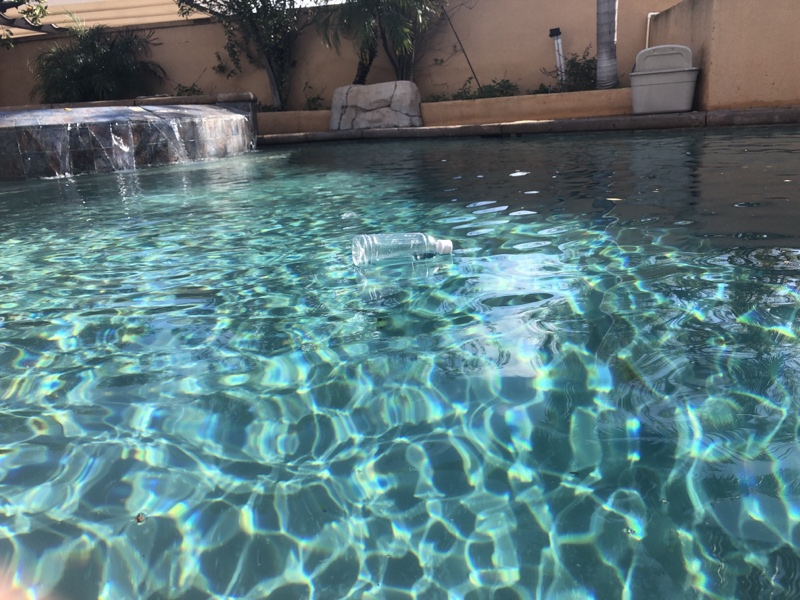Plastic Bottle: (347, 230, 454, 266)
